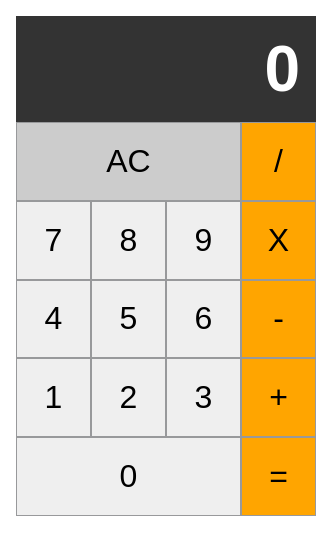
Test: Calculator › computes the correct result for a division
The width and height of the screenshot is (333, 533).
Click the button "6". click: click(204, 319)
box: [166, 280, 241, 358]
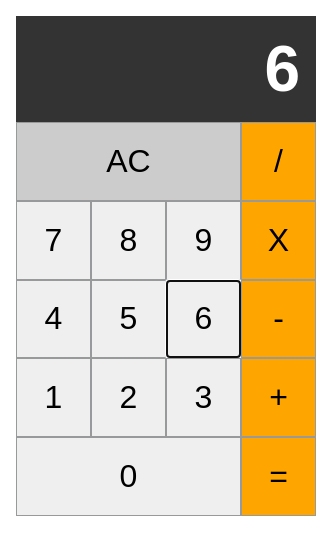
Click the button "/". click: click(278, 161)
box: [241, 122, 316, 201]
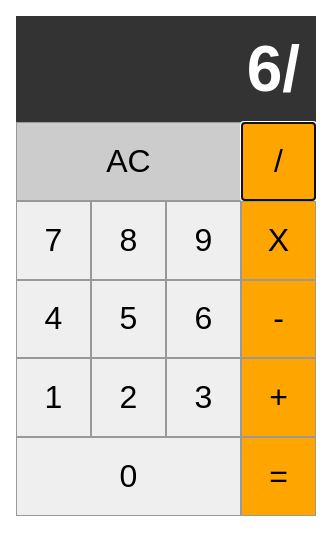
Click the button "3". click: click(204, 398)
box: [166, 358, 241, 437]
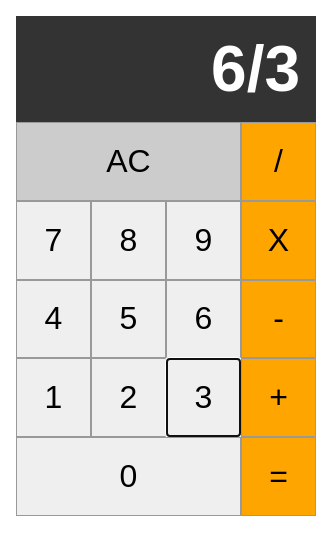
Click the button "=". click: click(278, 477)
box: [241, 437, 316, 516]
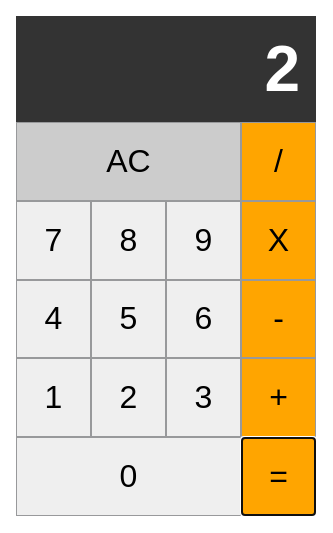
expect the heading reads "2": met, box [264, 33, 300, 105]
